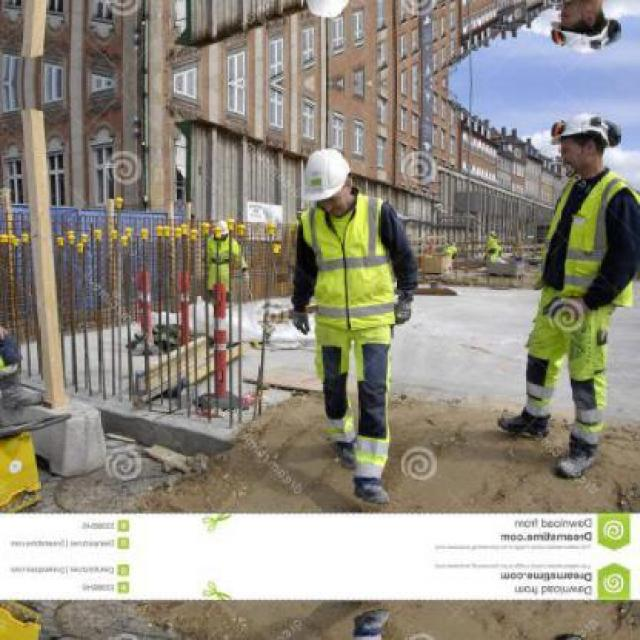Reflective-Jacket: (292, 198, 408, 352), (529, 170, 640, 327)
Safety-Helmet: (294, 142, 358, 207), (545, 106, 623, 153)
